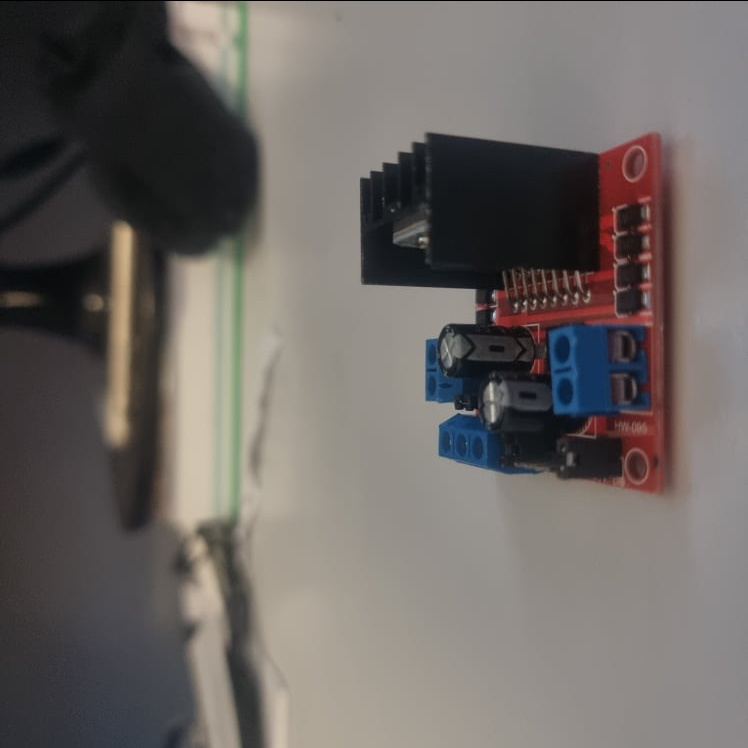MOTOR: (357, 125, 668, 499)
